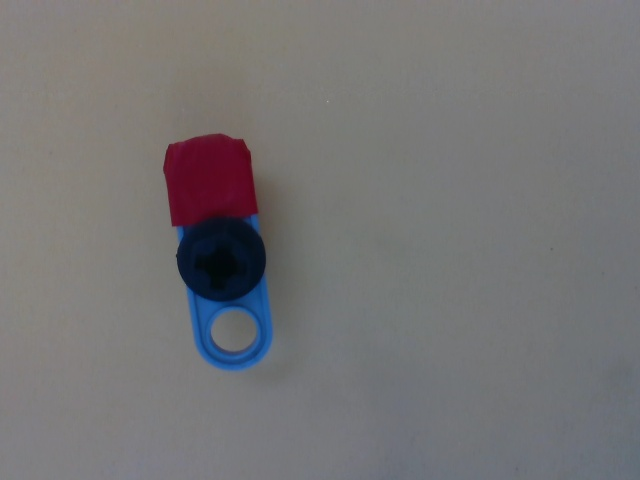part_1_good: (159, 128, 278, 377)
